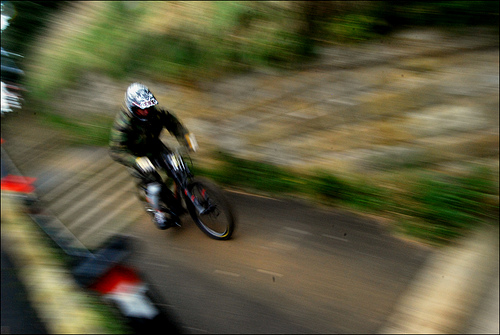helmet: (119, 82, 154, 112)
